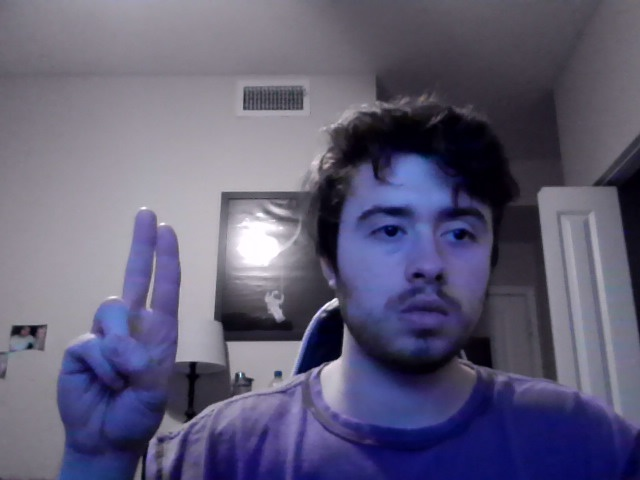u: (55, 206, 181, 465)
